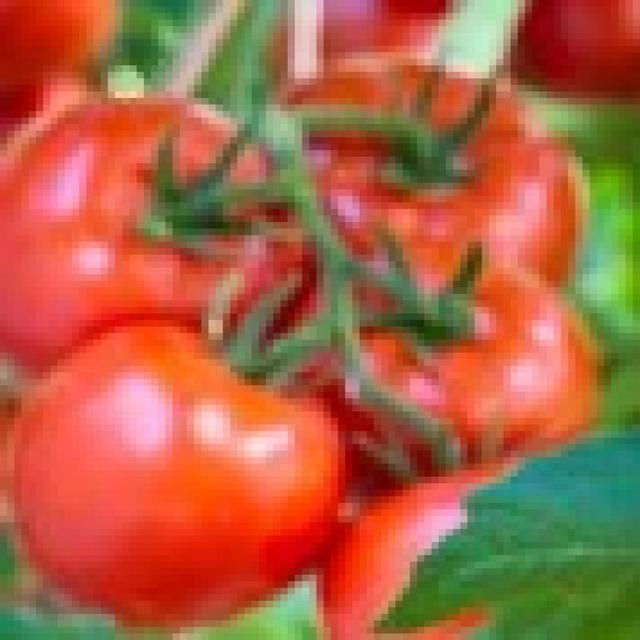Healthy Fruit: (97, 128, 282, 316)
